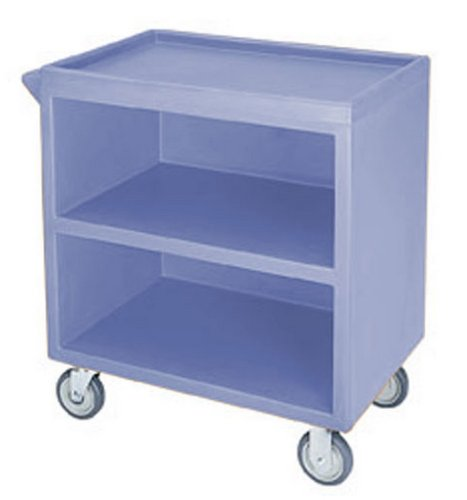Carts: (20, 28, 430, 486)
